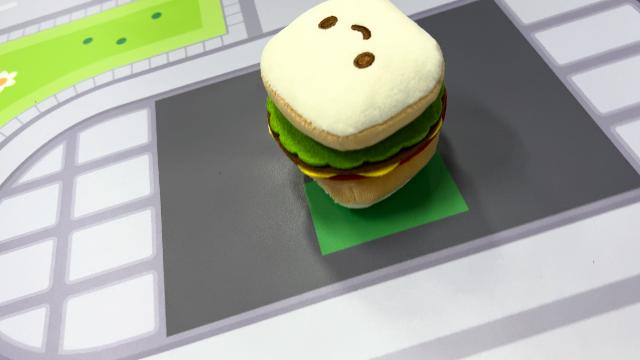sandwich: (258, 1, 450, 210)
